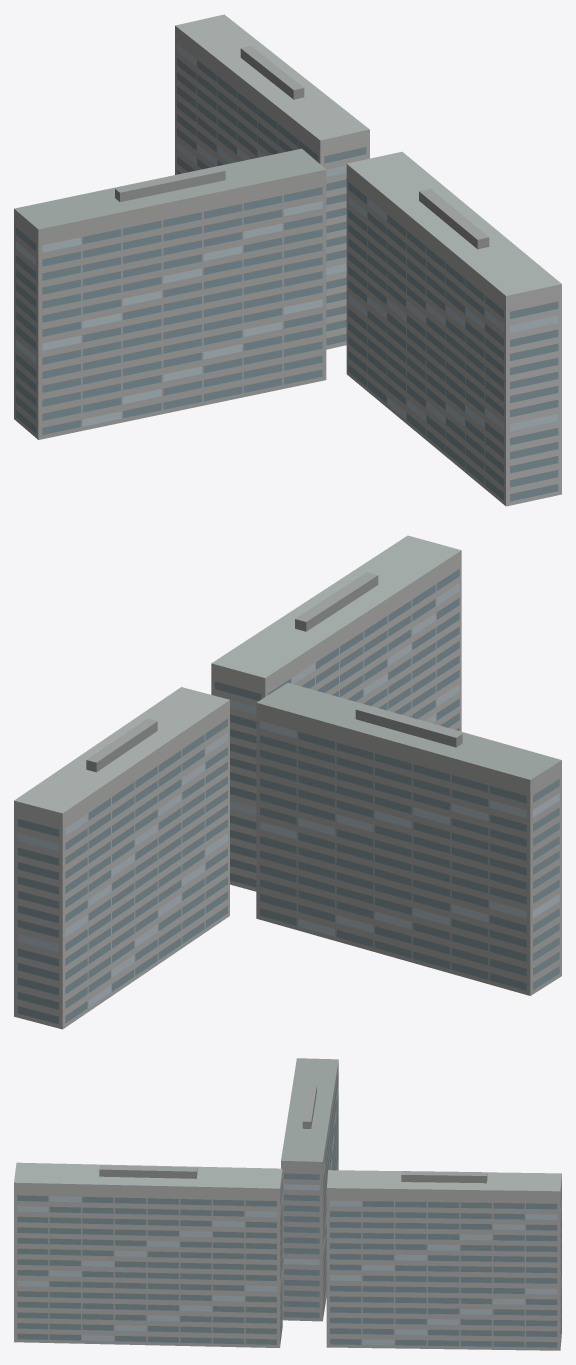
Rendered from apt-a13550403.glb.
3 views of the same model, one above another, from view 1: azimuth 30°, elevation 25°; view 2: azimuth 150°, elevation 25°; view 3: azimuth 270°, elevation 25° (orthographic). The views are drawn at different scales.
Visible parts, largest first — view 1: apt-a13550403; view 2: apt-a13550403; view 3: apt-a13550403.
Boxes of the visible parts, bbox=[...] form: apt-a13550403: bbox=[14, 14, 561, 506]; apt-a13550403: bbox=[14, 535, 561, 1029]; apt-a13550403: bbox=[14, 1058, 561, 1350].
Size of the model in its own units: 81.88 by 47.81 by 142.
